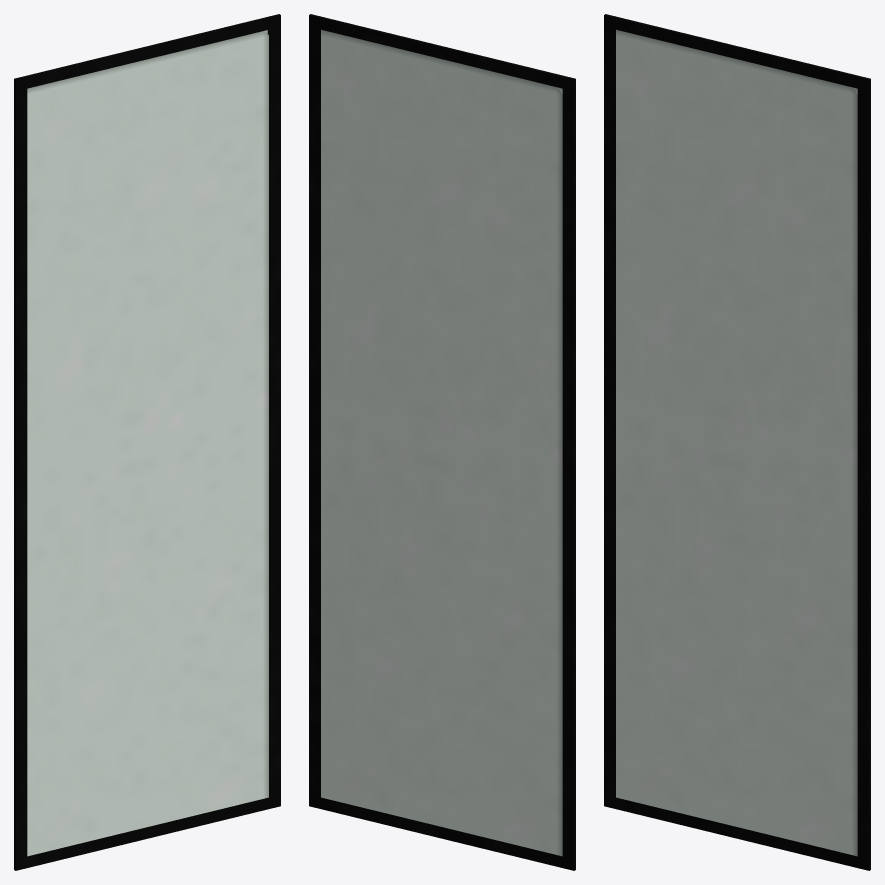
The model's file is SlidingDoor1.fbx.
The picture shows the model from 3 angles, left to right: view 1: azimuth 30°, elevation 25°; view 2: azimuth 150°, elevation 25°; view 3: azimuth 330°, elevation 25°; orthographic projection.
Visible parts, largest first — view 1: entrance_SlidingDoor1; view 2: entrance_SlidingDoor1; view 3: entrance_SlidingDoor1.
Boxes of the visible parts, box(x1,y1,x2,y2) form: entrance_SlidingDoor1: box(14, 14, 280, 870); entrance_SlidingDoor1: box(309, 14, 575, 870); entrance_SlidingDoor1: box(604, 14, 870, 870).
Size of the model in its own units: 200 by 570 by 2.
